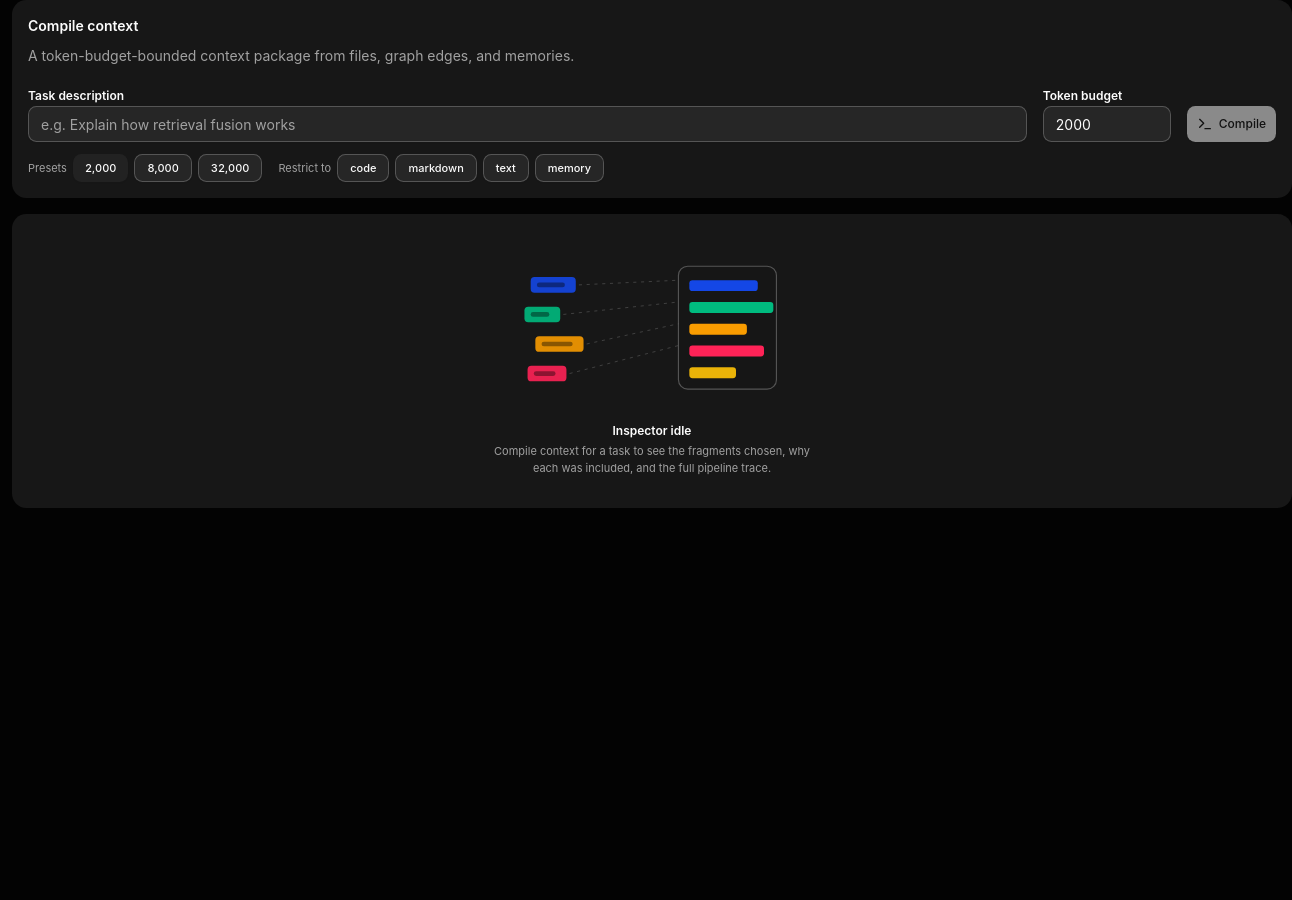
Test: InspectorView › renders NO scores for an empty package — the regression this feature exists for
Type "explain fusion" into the field labelled "Task description" at {"x": 527, "y": 124}, box [28,106,1027,142]
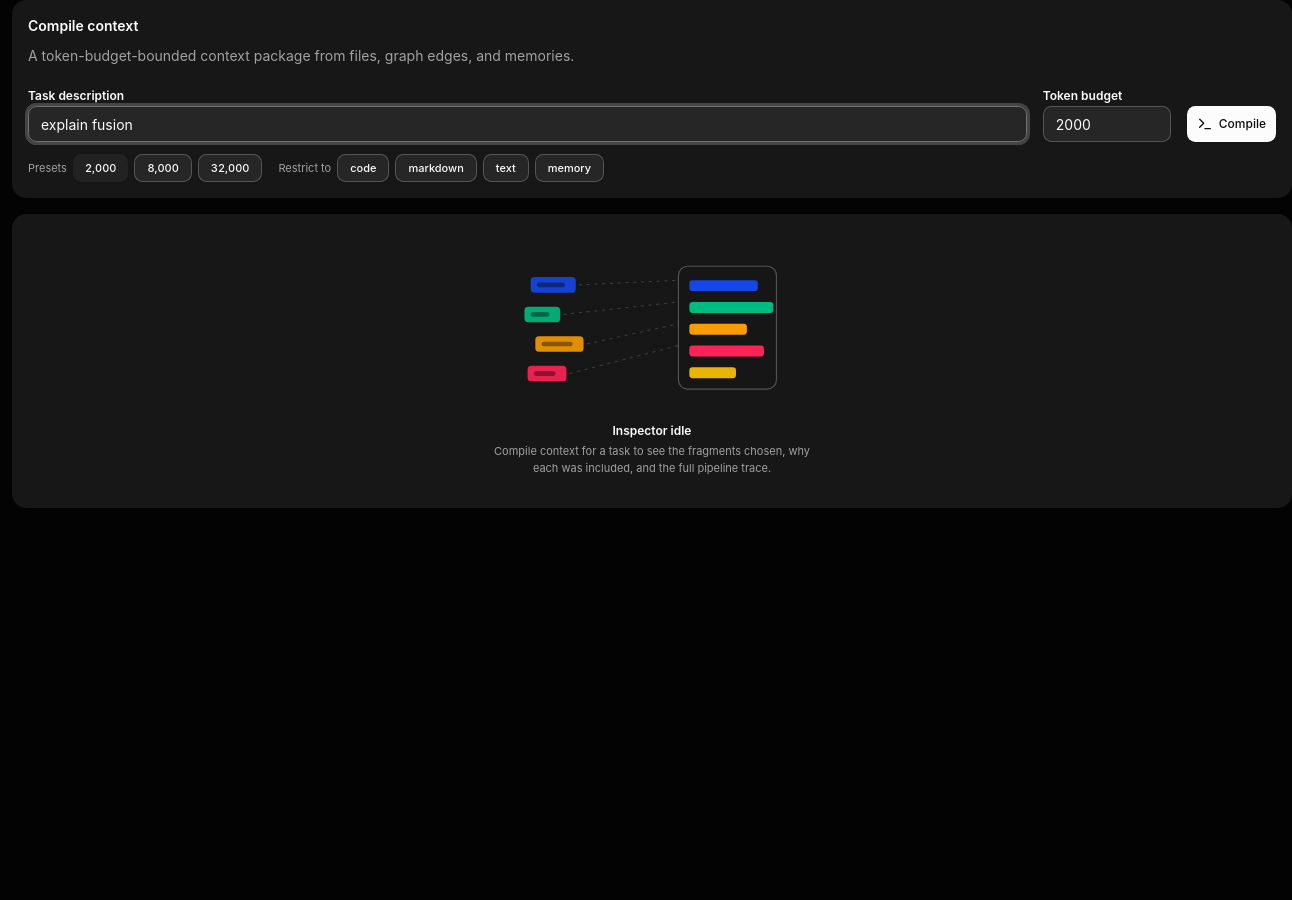
Click the button "Compile" at {"x": 1231, "y": 124}, box [1187,106,1276,142]
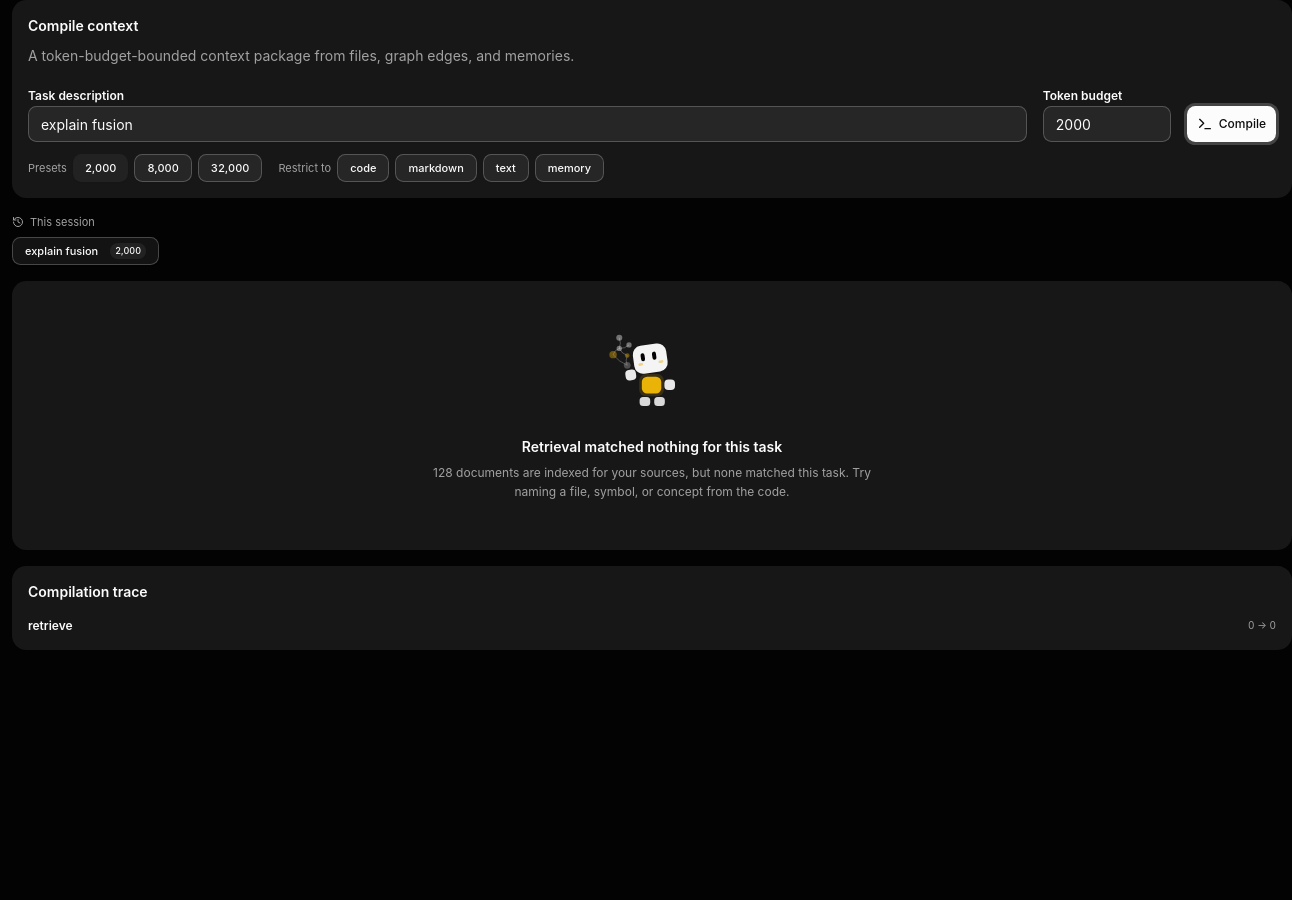
Now the text "Retrieval matched nothing for this task" is shown, box [522,438,782,455]
